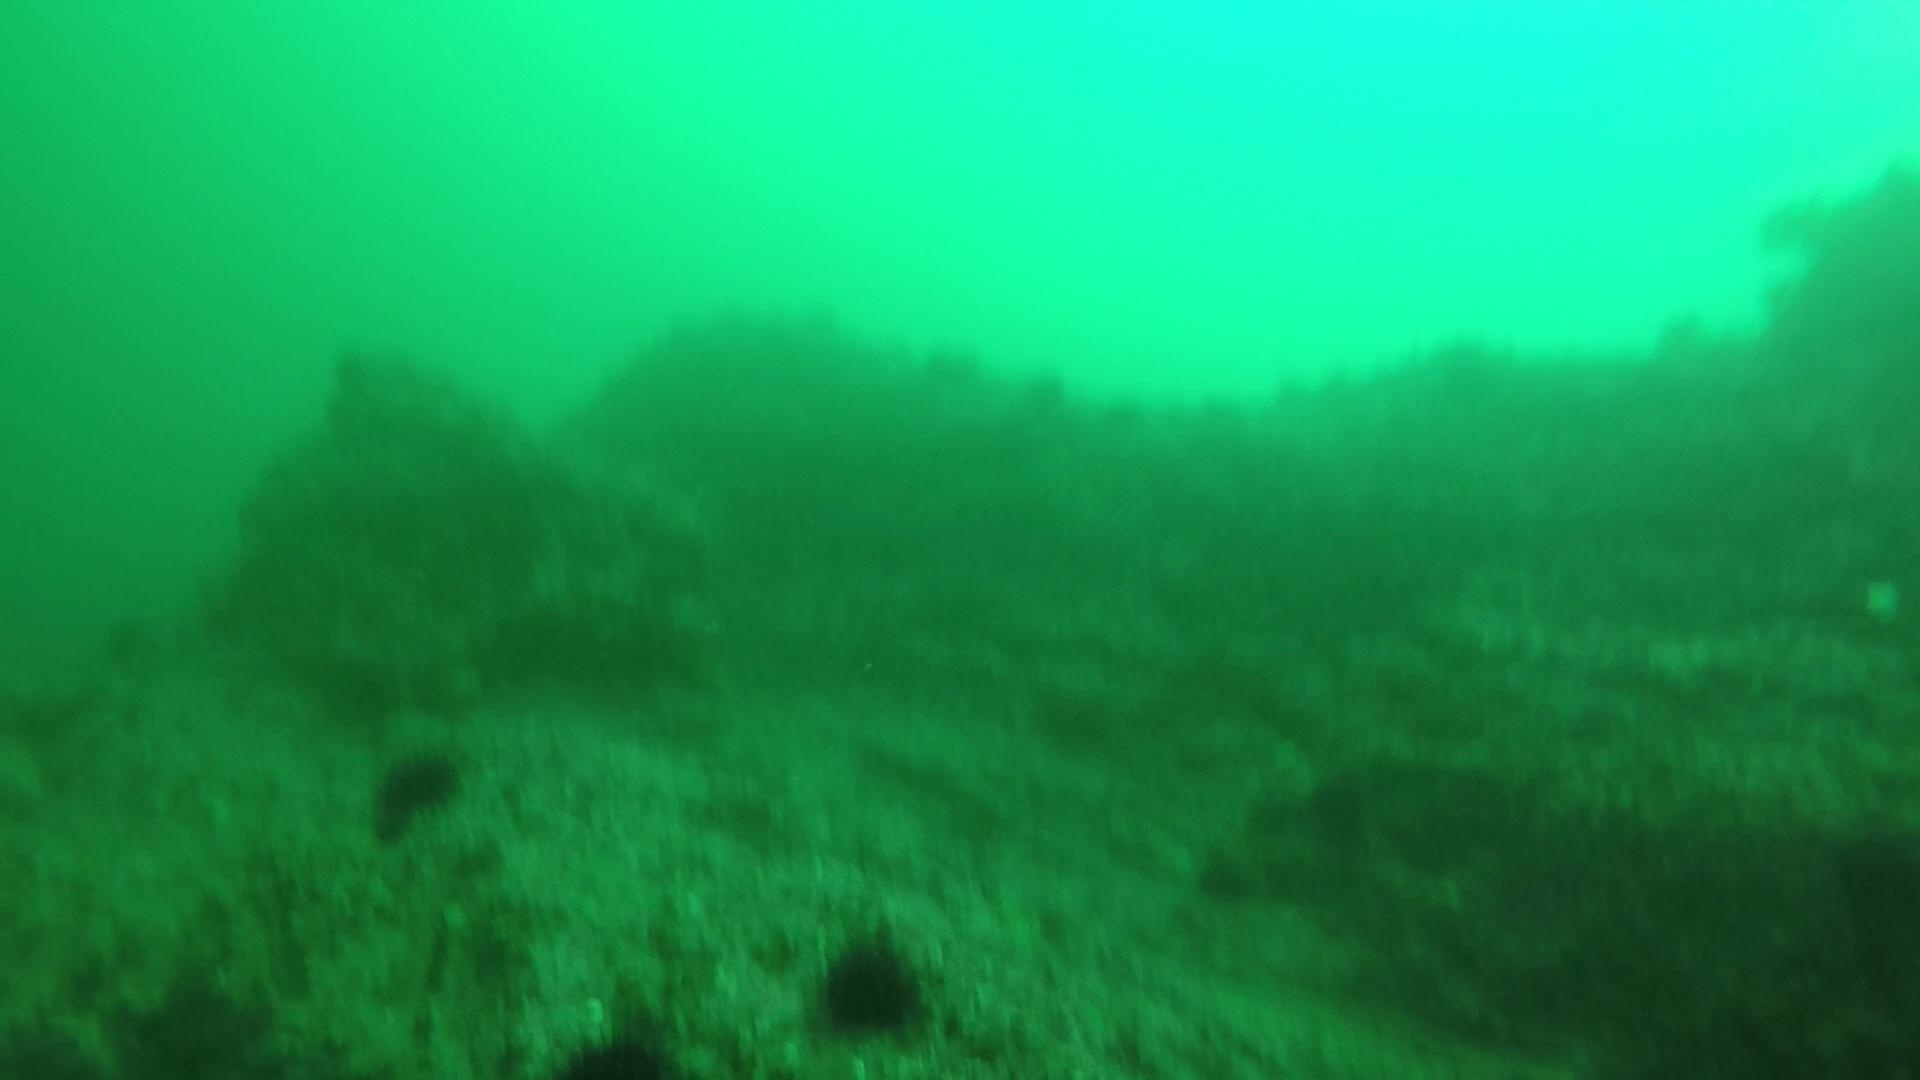echinus: (807, 923, 935, 1044), (363, 738, 471, 843), (539, 1013, 688, 1077)
